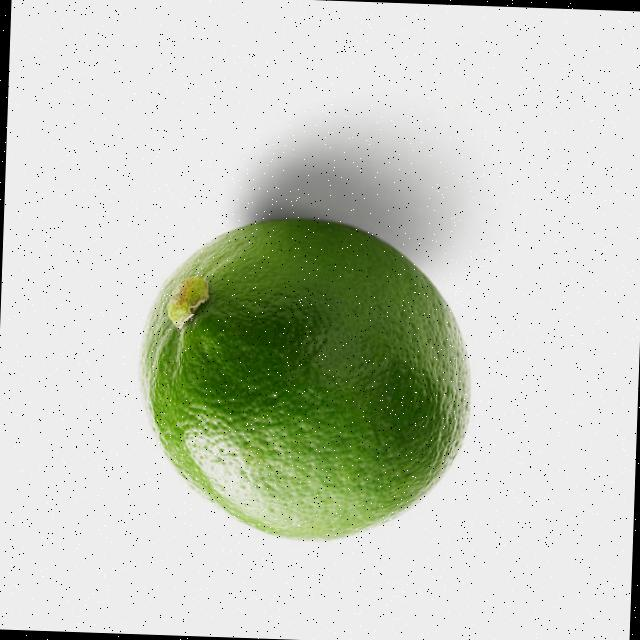Unripe: (131, 210, 478, 550)
